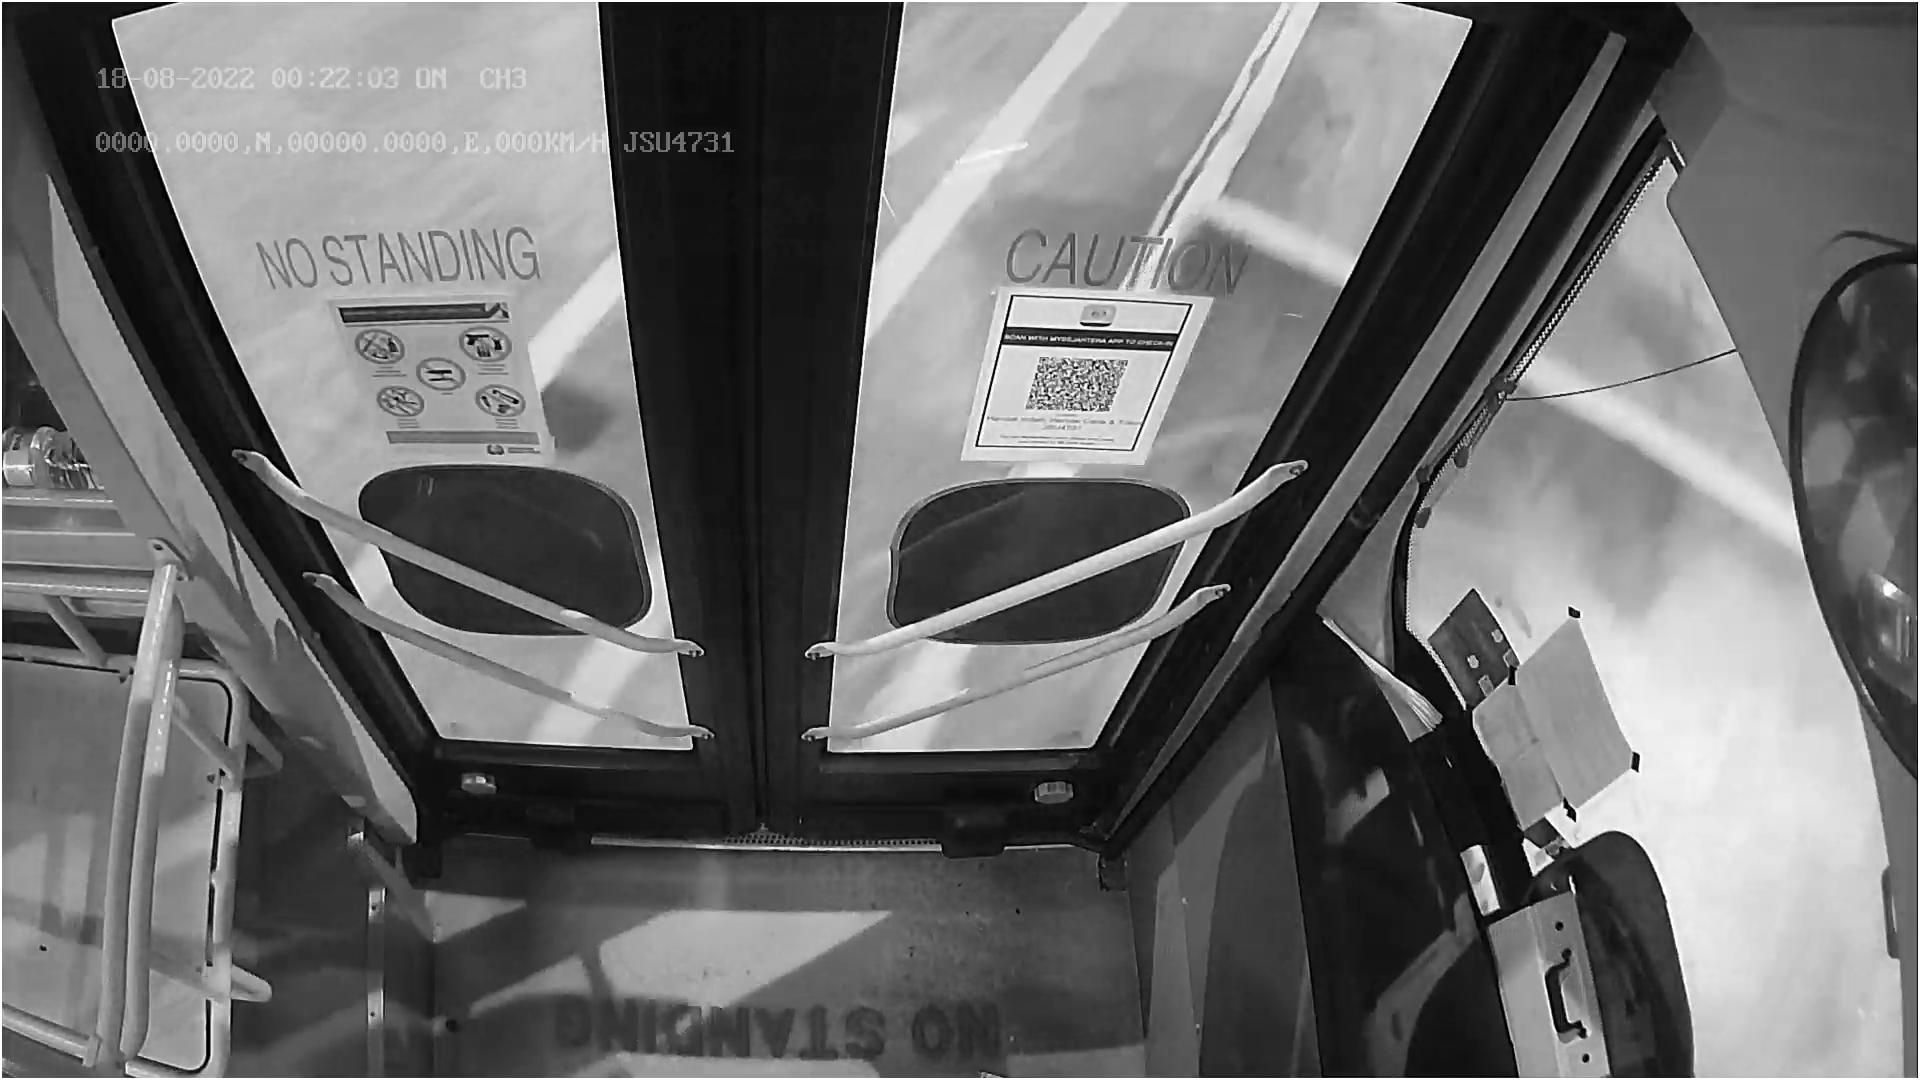close: (131, 0, 1453, 157)
